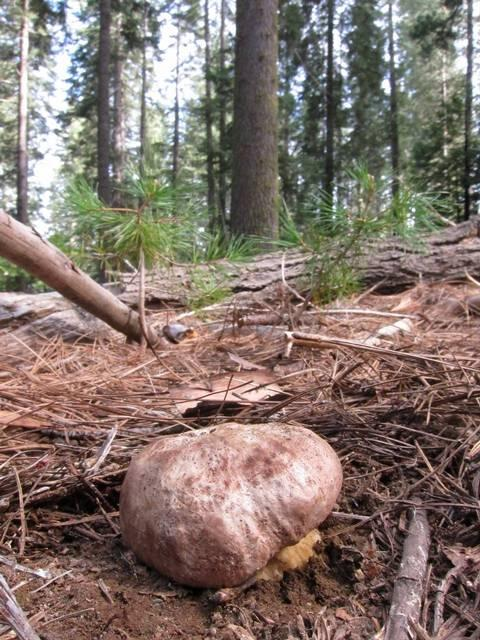Edible Mushroom: (117, 419, 343, 590)
